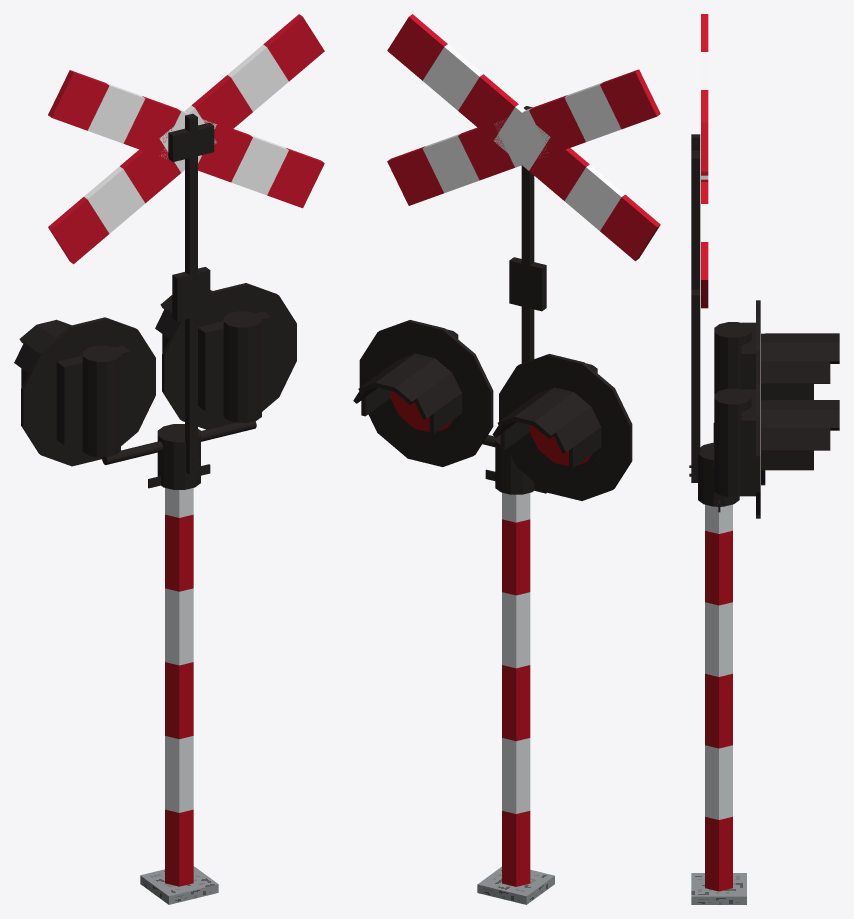
The model's file is sd-k2_no_bell_single_track.obj.
3 views of the same model, side by side, from view 1: azimuth 30°, elevation 25°; view 2: azimuth 150°, elevation 25°; view 3: azimuth 270°, elevation 25° (orthographic). The views are drawn at different scales.
Parts seen in each view (by area): view 1: cylinder; view 2: cylinder, mrygR, mrygL; view 3: cylinder.
Boxes of the visible parts, box(x1,y1,x2,y2) form: cylinder: box(14, 14, 324, 904); cylinder: box(353, 14, 660, 904); mrygR: box(391, 391, 452, 432); mrygL: box(530, 425, 591, 466); cylinder: box(689, 14, 839, 904).
Size of the model in its own units: 1.03 by 3.06 by 0.5063.
